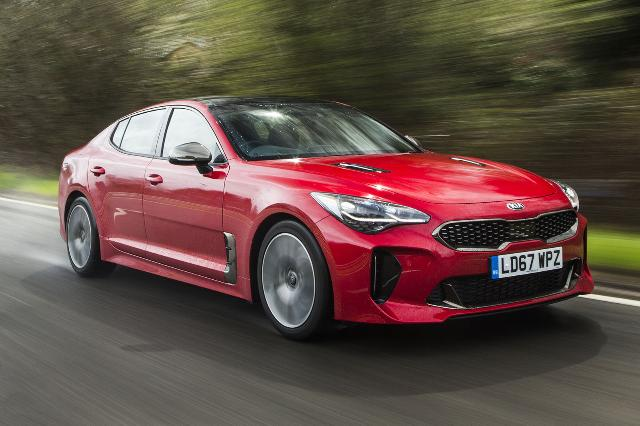kia: (57, 95, 595, 339)
